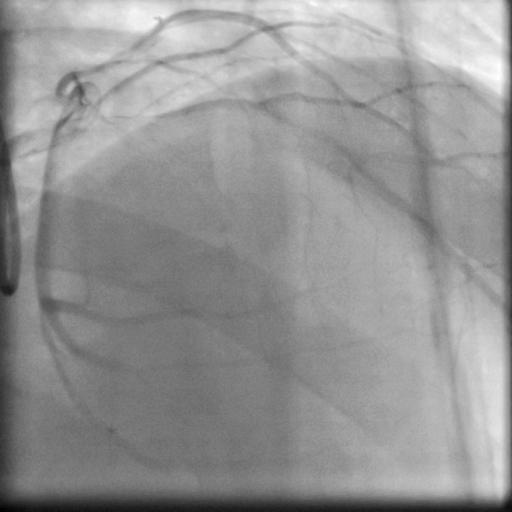Stenosis: (78, 49, 129, 78)
